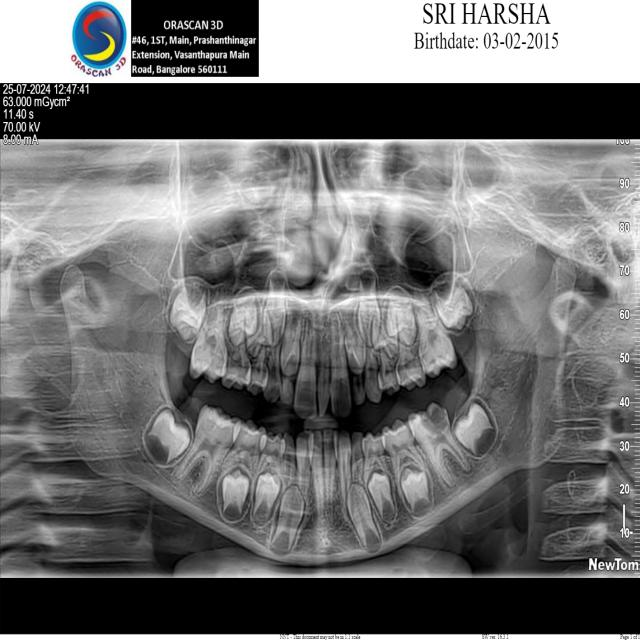Premolars: (360, 428, 392, 489), (348, 431, 364, 497)
